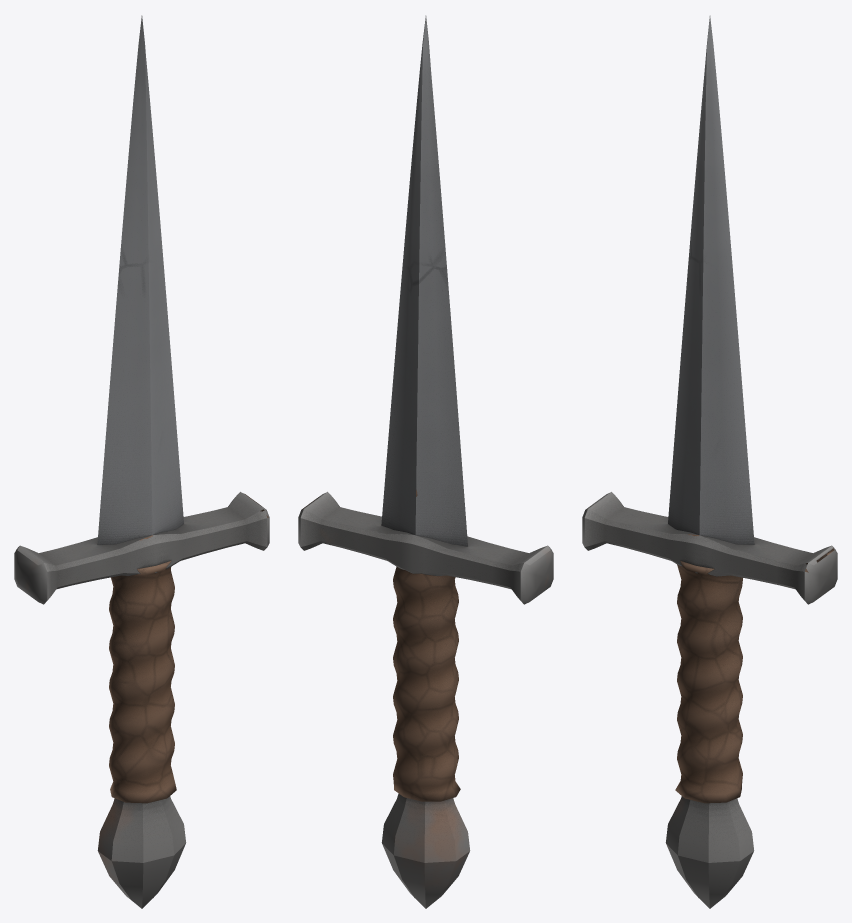
Rendered from dagger.glb.
3 views of the same model, side by side, from view 1: azimuth 30°, elevation 25°; view 2: azimuth 150°, elevation 25°; view 3: azimuth 330°, elevation 25° (orthographic).
Parts seen in each view (by area): view 1: dagger; view 2: dagger; view 3: dagger.
Part boxes in pixels (bbox=[...]): dagger: bbox=[14, 15, 269, 908]; dagger: bbox=[298, 15, 553, 908]; dagger: bbox=[582, 15, 837, 908].
Size of the model in its own units: 0.27 by 0.975 by 0.0663.
Materials: 1 (1 with a texture image).
